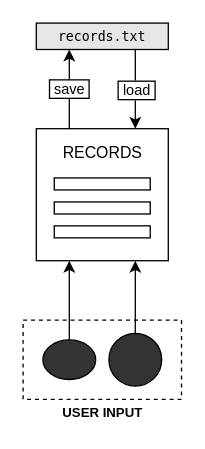
This 205x449 diagram has some shape labels left out. Here are the shapes that lost their labels. From the top down, the centre of each, then its label:
At (x=69, y=359): "edit Record".
At (x=135, y=359): "add / remove Record".
